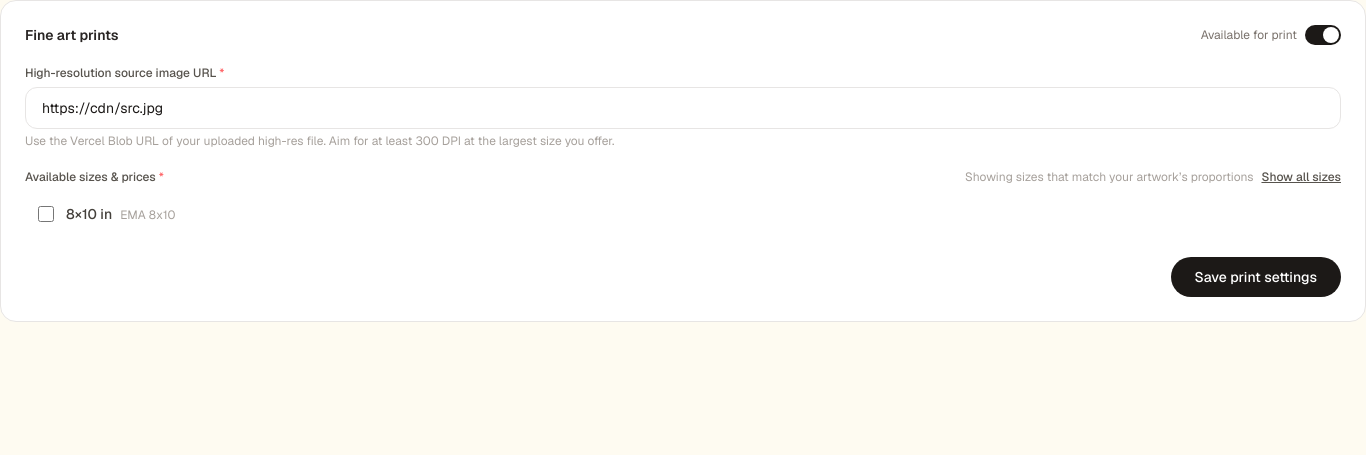
Scenario: PrintConfigForm — show all Prodigi sizes (seller option) › toggles back to matching-only
The image size is (1366, 455).
Click the button "Show all sizes" at (1301, 177), box [1262, 169, 1341, 185]
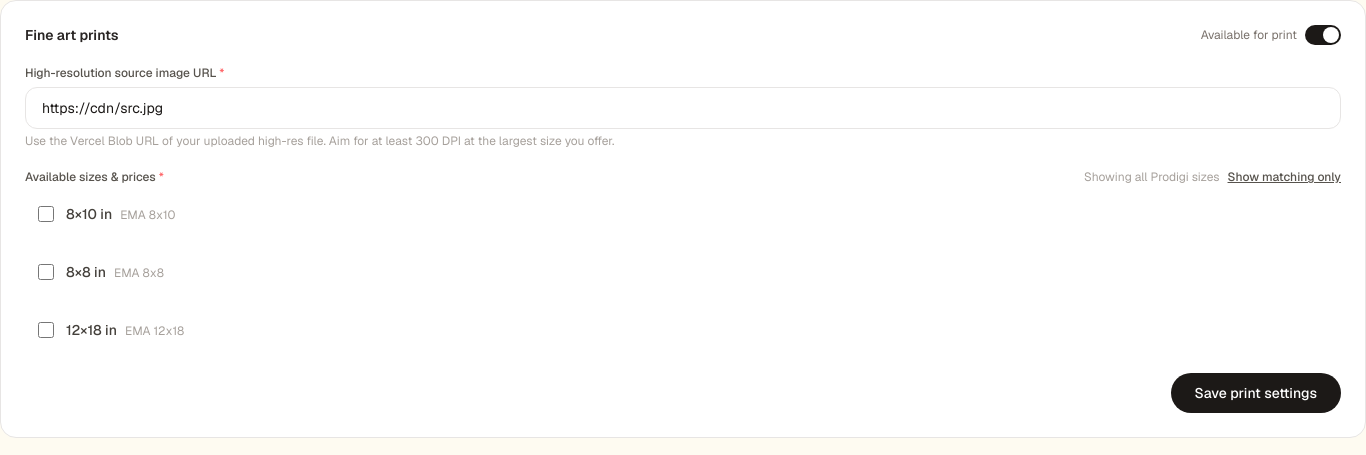
Click the button "Show matching only" at (1284, 177), box [1228, 169, 1341, 185]
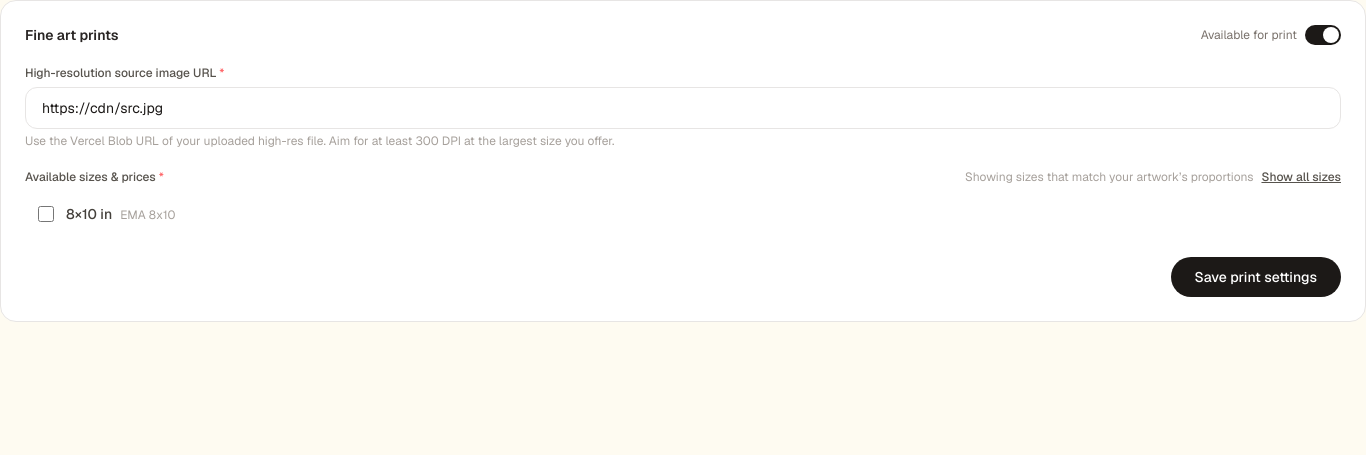
Expected: the number of checkboxes is 1, [38, 206, 54, 222]
